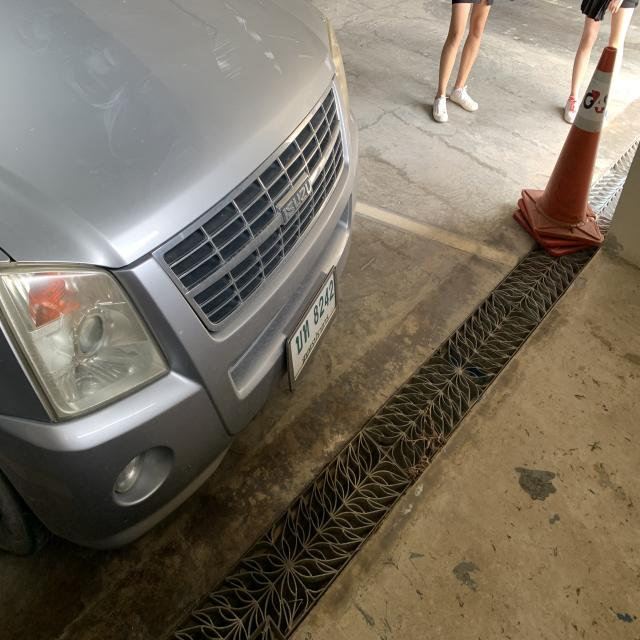license_plate: (282, 262, 342, 392)
